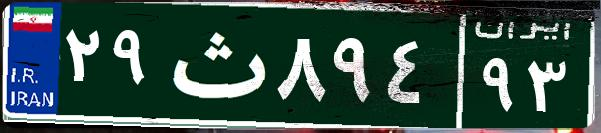2: (57, 26, 110, 107)
3: (525, 38, 570, 115)
4: (385, 28, 445, 110)
8: (273, 28, 330, 110)
9: (330, 28, 385, 110), (475, 38, 525, 113), (110, 28, 158, 105)
ث: (158, 15, 273, 115)
